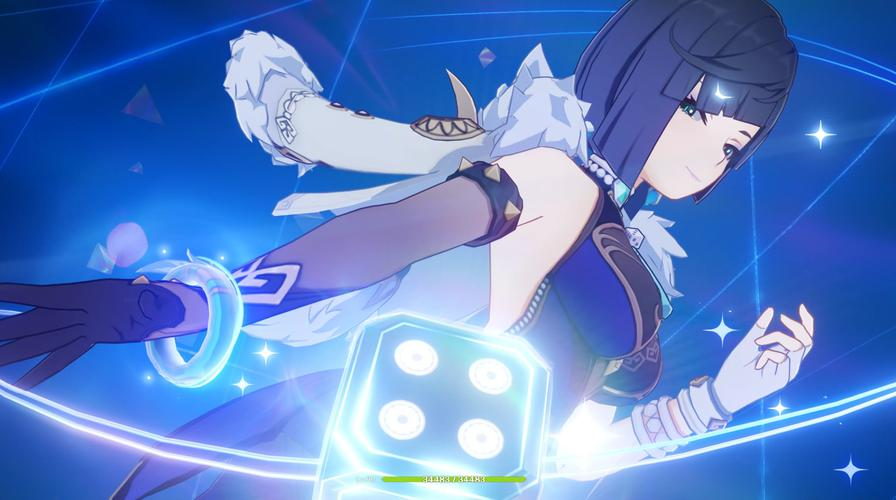夜兰: (1, 1, 826, 493)
